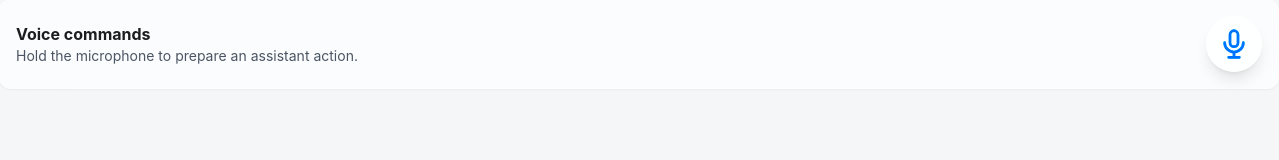
Test: does not claim an offline recording is queued until durable persistence commits
Later steps or results of the test are not shown.
Press the mouse on the button named "Voice Assistant": (1234, 44) top-left (1206, 16), bottom-right (1262, 72)
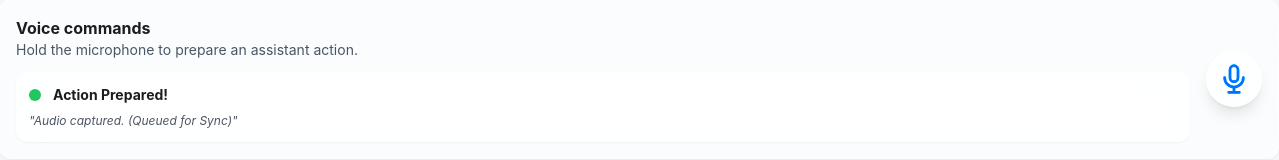
Result: the text "Processing command..." is shown at top-left (53, 85), bottom-right (168, 105)
Result: the text "\"Audio captured. (Queued for Sync)\"" is shown at top-left (29, 113), bottom-right (238, 128)
